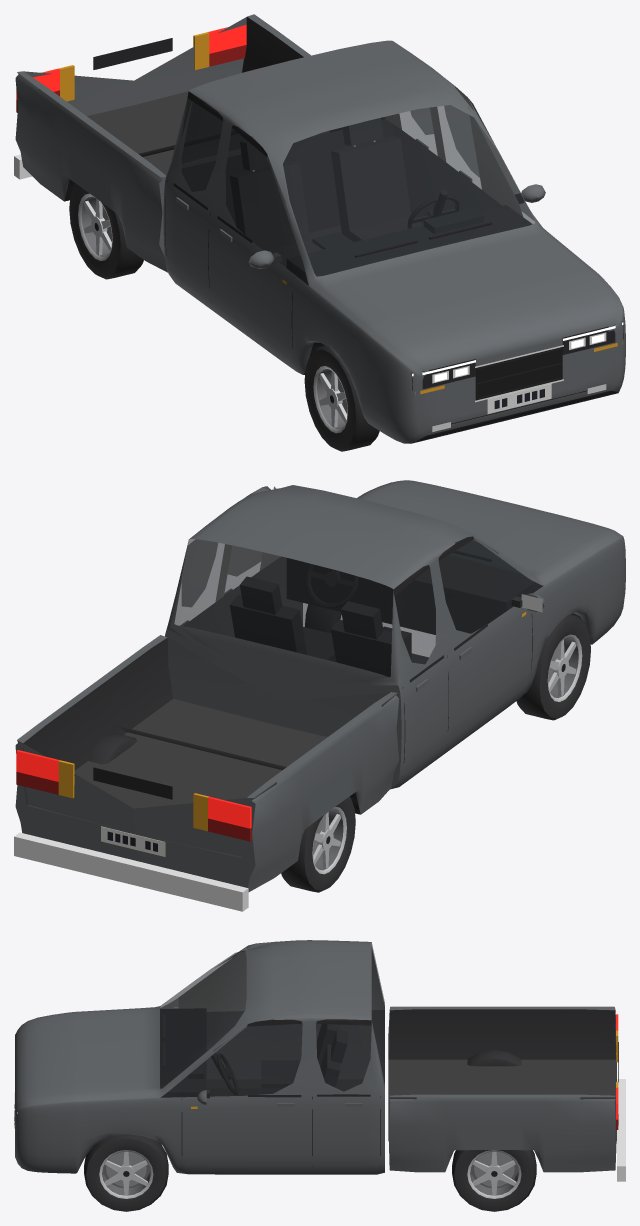
Rendered from pickup_grey.glb.
3 views of the same model, one above another, from view 1: azimuth 30°, elevation 25°; view 2: azimuth 150°, elevation 25°; view 3: azimuth 270°, elevation 25° (orthographic). The views are drawn at different scales.
Parts seen in each view (by area): view 1: pickup_grey_body, Wheel_FR, Wheel_RR; view 2: pickup_grey_body, Wheel_FR, Wheel_RR, Wheel_RL, Wheel_FL; view 3: pickup_grey_body, Wheel_FL, Wheel_RL, Wheel_RR.
Part boxes in pixels (left/top/right/bottom): pickup_grey_body: left=14, top=14, right=625, bottom=443; Wheel_FR: left=304, top=345, right=379, bottom=451; Wheel_RR: left=69, top=183, right=143, bottom=279; pickup_grey_body: left=14, top=480, right=625, bottom=911; Wheel_FR: left=516, top=614, right=590, bottom=720; Wheel_RR: left=281, top=796, right=355, bottom=892; Wheel_RL: left=88, top=732, right=137, bottom=764; Wheel_FL: left=305, top=604, right=341, bottom=633; pickup_grey_body: left=14, top=940, right=625, bottom=1181; Wheel_FL: left=84, top=1134, right=168, bottom=1211; Wheel_RL: left=452, top=1150, right=536, bottom=1211; Wheel_RR: left=467, top=1050, right=521, bottom=1066.
Size of the model in its own units: 0.1198 by 0.0957 by 0.2744.
Materials: 8 (1 with a texture image).
